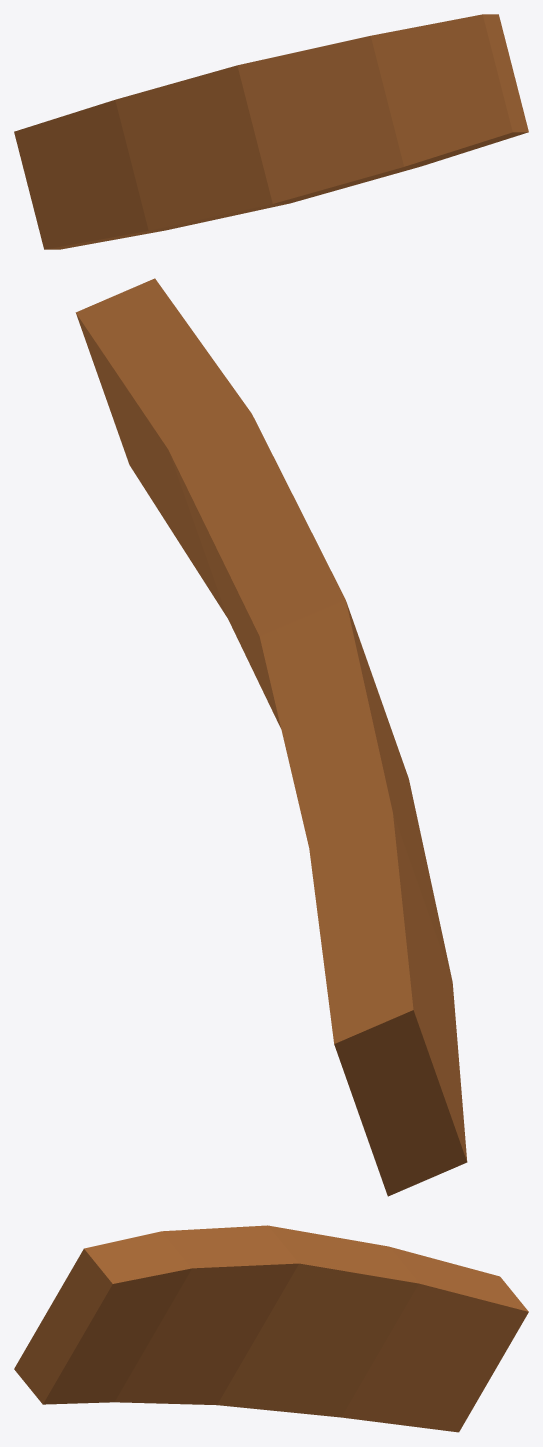
Rendered from barrel-024.glb.
The picture shows the model from 3 angles, top to bottom: view 1: azimuth 30°, elevation 25°; view 2: azimuth 150°, elevation 25°; view 3: azimuth 270°, elevation 25°; orthographic projection. The views are drawn at different scales.
Parts seen in each view (by area): view 1: barrel.024; view 2: barrel.024; view 3: barrel.024.
Part boxes in pixels (x1,y1,x2,y2): barrel.024: (14, 14, 528, 249); barrel.024: (75, 278, 467, 1196); barrel.024: (14, 1225, 528, 1432).
Bounding box in the file's own units: 1.63 × 1.34 × 1.81.
